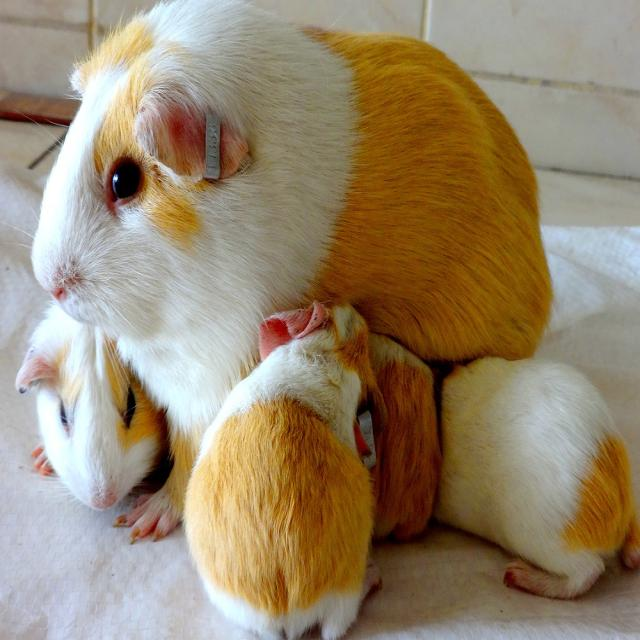guinea pig: (20, 0, 555, 408)
